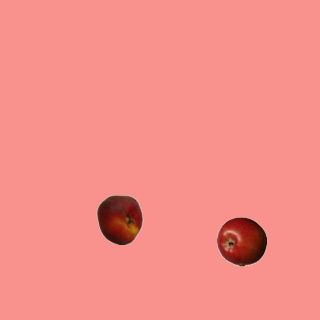Apple Braeburn: (216, 216, 266, 266)
Nectarine Flat: (94, 194, 144, 244)
